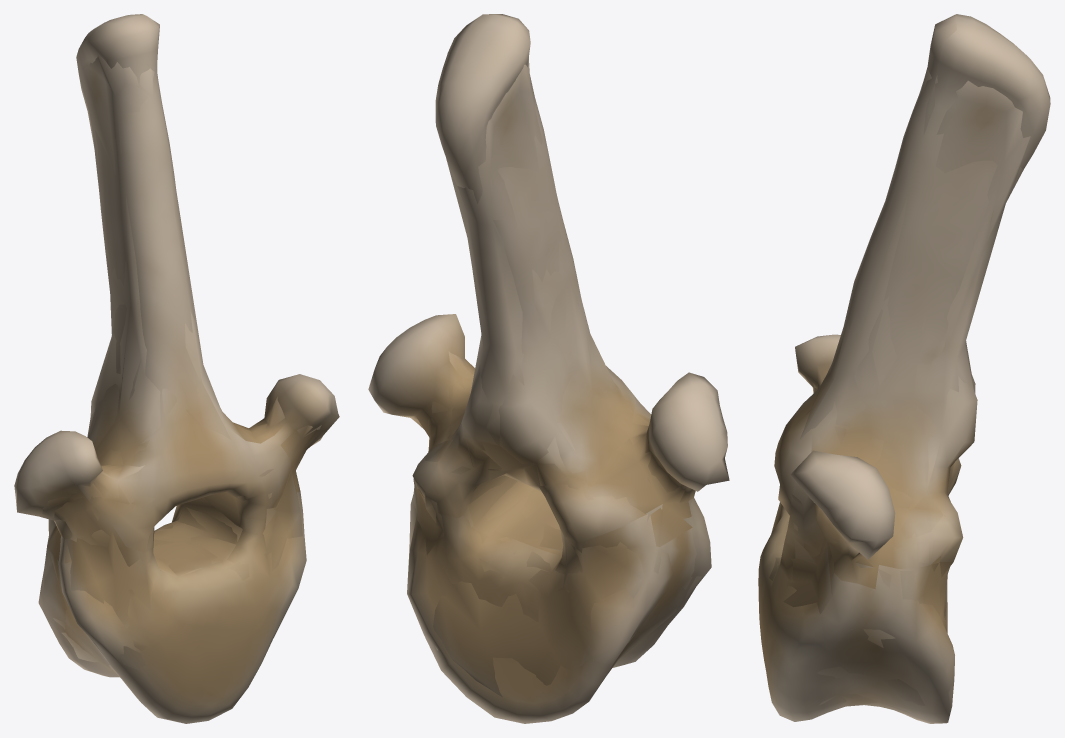
File: vertebrae thoracicae 09.fbx
The picture shows the model from 3 angles, left to right: view 1: azimuth 30°, elevation 25°; view 2: azimuth 150°, elevation 25°; view 3: azimuth 270°, elevation 25°; orthographic projection. The views are drawn at different scales.
Visible parts, largest first — view 1: vertebrae thoracicae 09, vertebrae thoracicae 09 low; view 2: vertebrae thoracicae 09, vertebrae thoracicae 09 low; view 3: vertebrae thoracicae 09, vertebrae thoracicae 09 low.
Part boxes in pixels (bbox=[...]): vertebrae thoracicae 09: bbox=[14, 14, 339, 723]; vertebrae thoracicae 09 low: bbox=[42, 54, 321, 672]; vertebrae thoracicae 09: bbox=[368, 14, 729, 723]; vertebrae thoracicae 09 low: bbox=[412, 58, 702, 697]; vertebrae thoracicae 09: bbox=[758, 14, 1050, 723]; vertebrae thoracicae 09 low: bbox=[769, 67, 1030, 713].
Bounding box in the file's own units: 7.84 × 15.11 × 5.71.
Materials: 1 (1 with a texture image).
